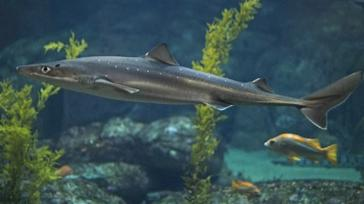Shark -Selachimorpha-: (13, 38, 364, 133)
